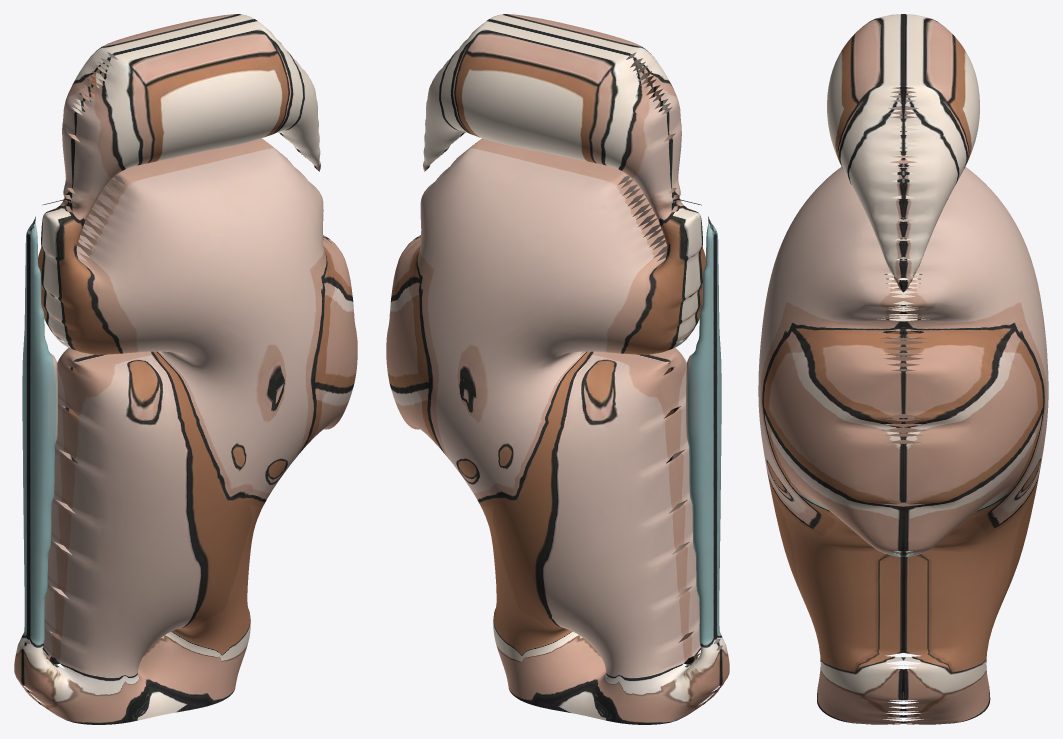
The model's file is side_pylon.glb.
The picture shows the model from 3 angles, left to right: view 1: azimuth 30°, elevation 25°; view 2: azimuth 150°, elevation 25°; view 3: azimuth 270°, elevation 25°; orthographic projection. The views are drawn at different scales.
Parts seen in each view (by area): view 1: side_pylon; view 2: side_pylon; view 3: side_pylon.
Boxes of the visible parts, left/top/right/bottom form: side_pylon: left=14, top=14, right=357, bottom=724; side_pylon: left=386, top=14, right=729, bottom=724; side_pylon: left=758, top=14, right=1048, bottom=724.
Bounding box in the file's own units: 0.9789 × 1.89 × 0.7537.
Materials: 1 (1 with a texture image).
